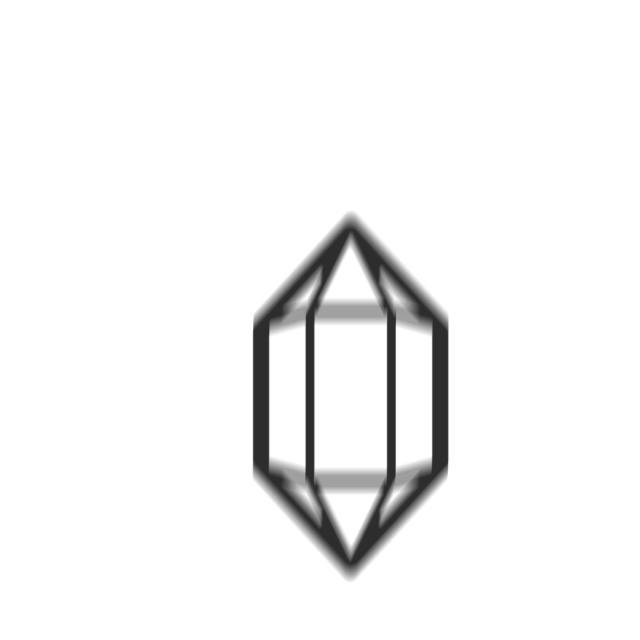crystal: (241, 201, 464, 591)
